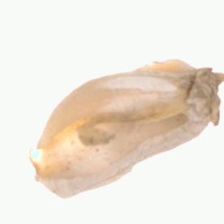L1: (191, 67, 221, 129), (28, 142, 61, 197)
L2: (29, 59, 223, 199)
